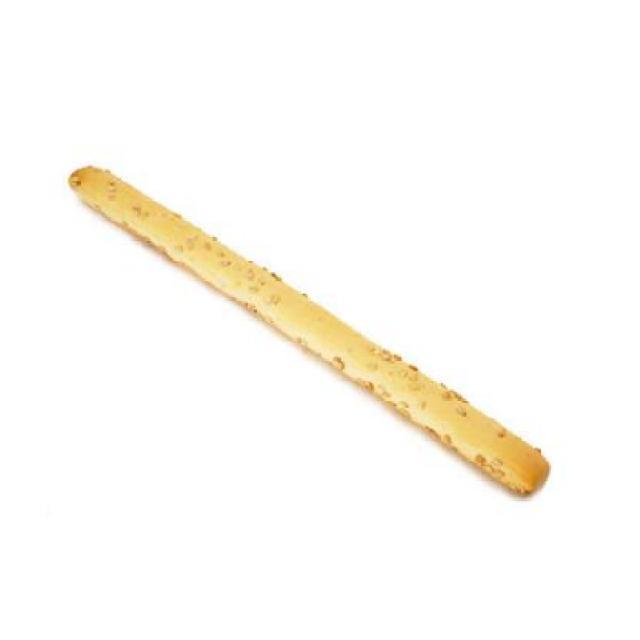Grissini: (64, 166, 552, 504)
